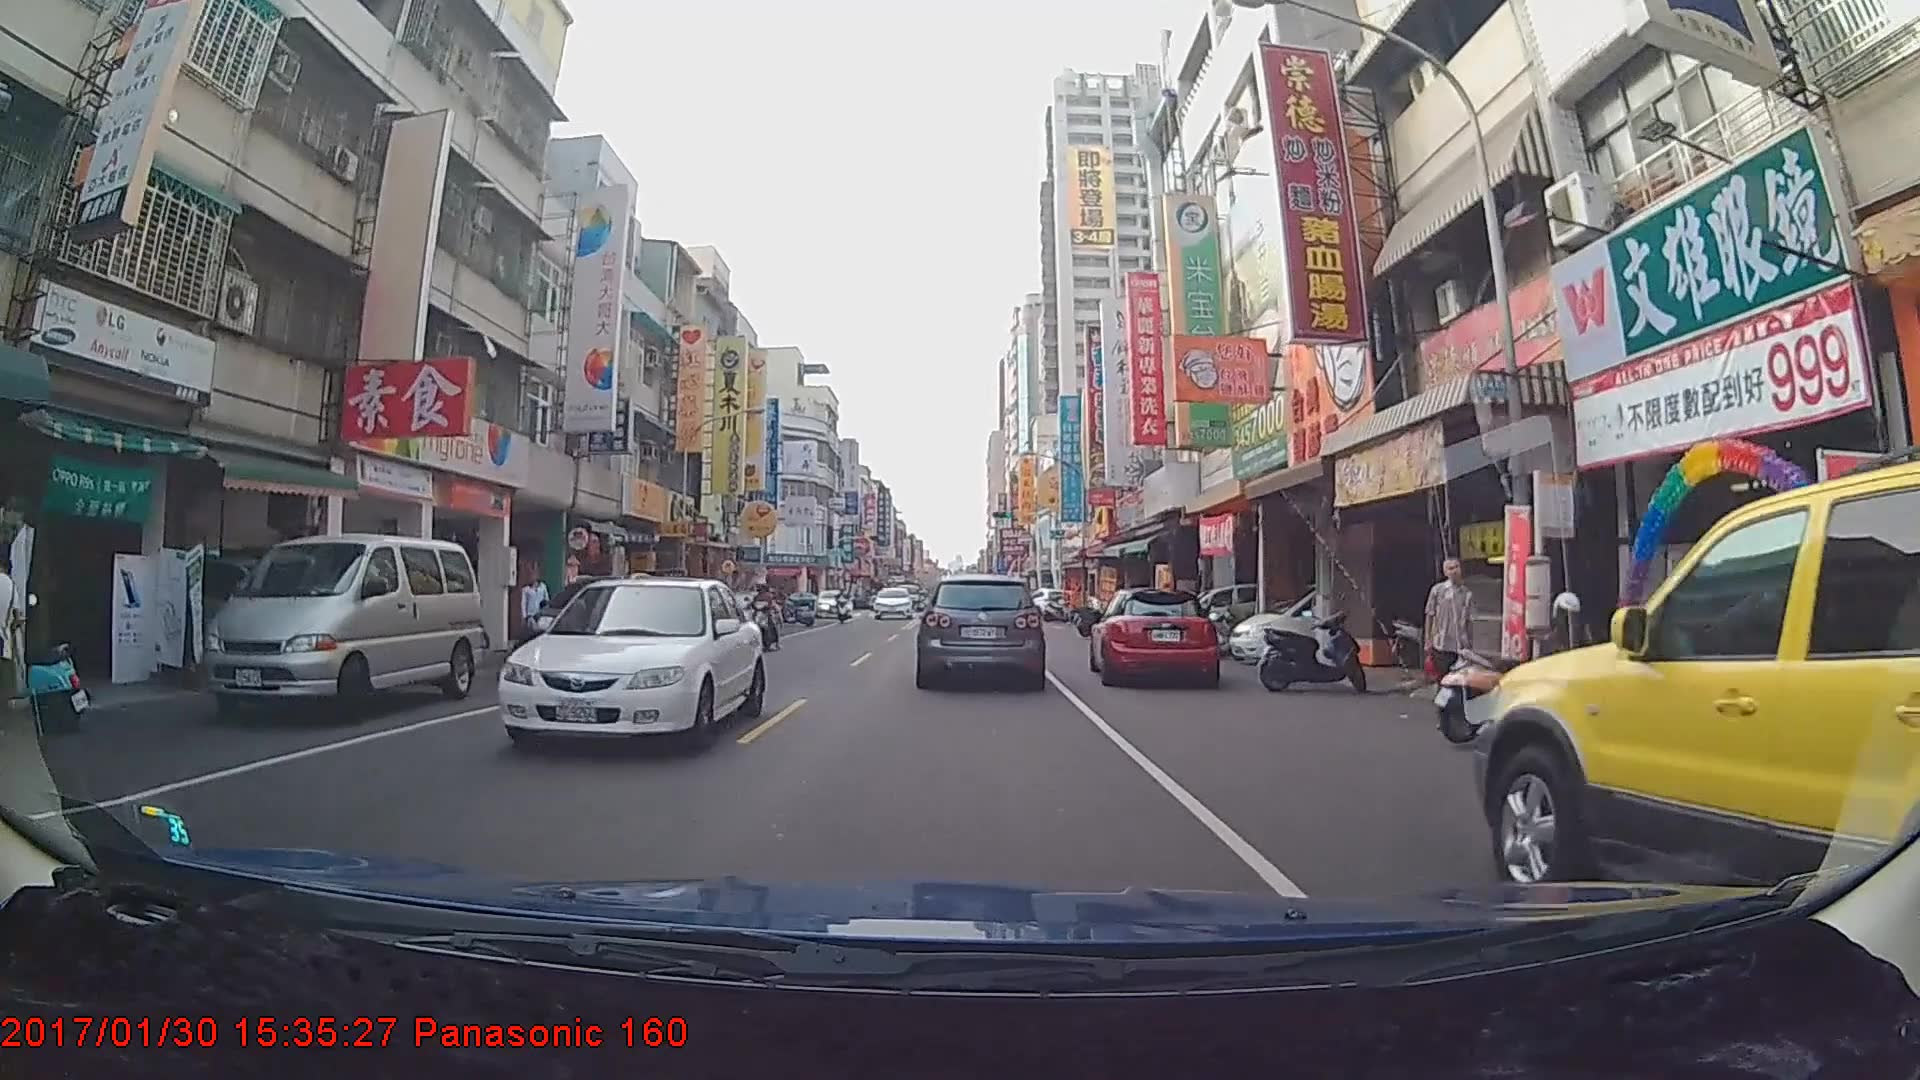pedestrian: (1425, 555, 1481, 728), (1, 543, 28, 745), (519, 567, 554, 647)
vehicle: (1477, 446, 1920, 976), (195, 530, 485, 725), (494, 568, 766, 756), (916, 572, 1043, 684), (1087, 586, 1219, 689), (697, 588, 782, 642), (870, 584, 912, 617), (813, 588, 852, 618)
